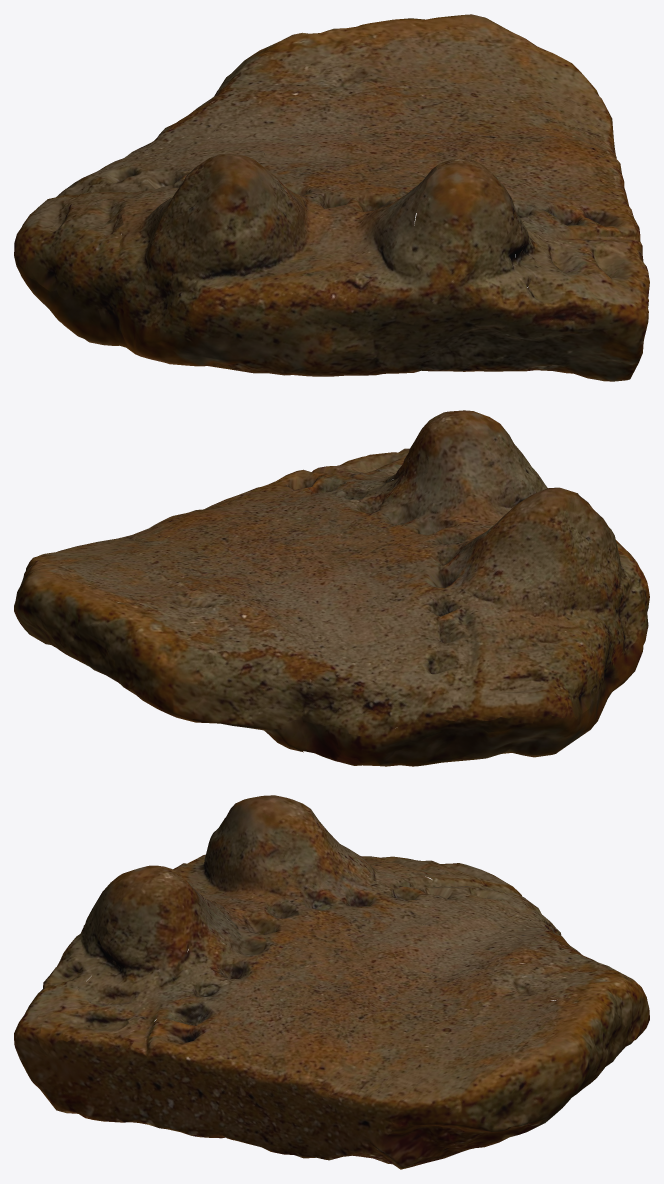
File: nou.glb
3 views of the same model, one above another, from view 1: azimuth 30°, elevation 25°; view 2: azimuth 150°, elevation 25°; view 3: azimuth 270°, elevation 25° (orthographic). The views are drawn at different scales.
Bounding box in the file's own units: 0.0657 × 0.0227 × 0.0677.
Materials: 1 (1 with a texture image).
